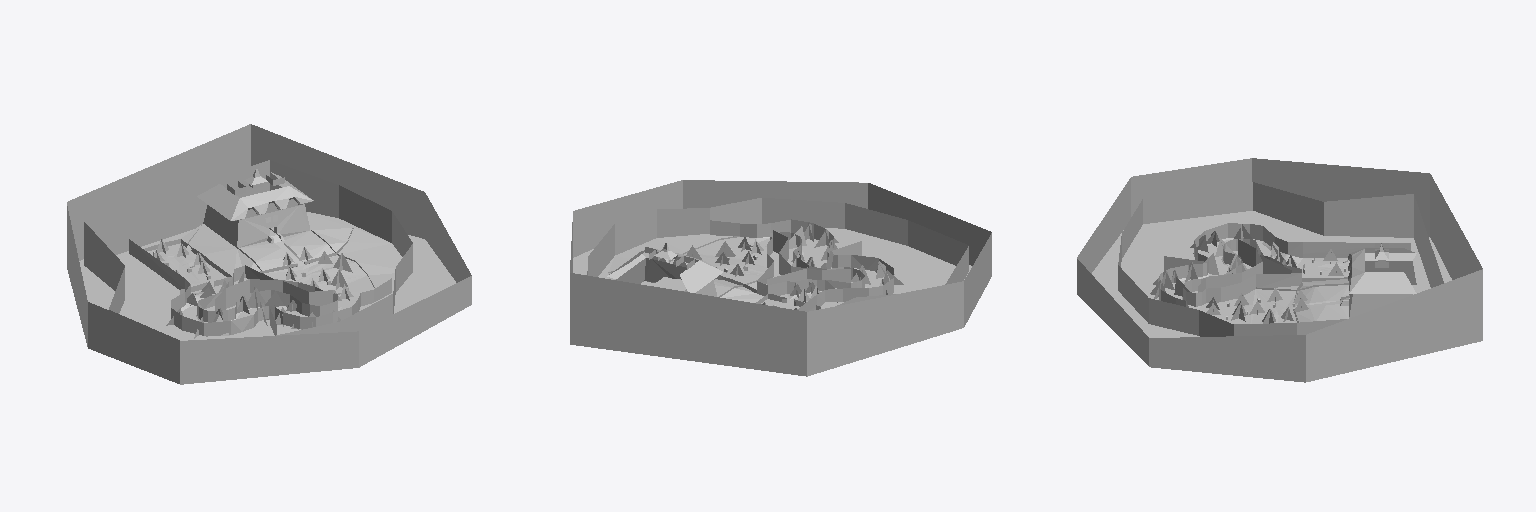
The model's file is Mansion.obj.
3 renders of one model, left to right at view 1: azimuth 30°, elevation 25°; view 2: azimuth 150°, elevation 25°; view 3: azimuth 270°, elevation 25°, orthographic.
Visible parts, largest first — view 1: mansion_cource.025, mansion_cource, mansion_cource.017, mansion_cource.024, mansion_cource.009, mansion_cource.027, mansion_cource.023; view 2: mansion_cource.025, mansion_cource, mansion_cource.024, mansion_cource.017, mansion_cource.009, mansion_cource.027; view 3: mansion_cource.025, mansion_cource, mansion_cource.024, mansion_cource.009, mansion_cource.017, mansion_cource.027.
Part boxes in pixels (bbox=[...]): mansion_cource.025: bbox=[67, 124, 471, 384]; mansion_cource: bbox=[79, 212, 455, 340]; mansion_cource.017: bbox=[203, 169, 309, 247]; mansion_cource.024: bbox=[154, 239, 353, 338]; mansion_cource.009: bbox=[197, 172, 313, 220]; mansion_cource.027: bbox=[166, 241, 351, 318]; mansion_cource.023: bbox=[140, 228, 353, 294]; mansion_cource.025: bbox=[570, 180, 991, 376]; mansion_cource: bbox=[573, 228, 971, 309]; mansion_cource.024: bbox=[686, 223, 903, 309]; mansion_cource.017: bbox=[616, 243, 716, 296]; mansion_cource.009: bbox=[609, 249, 723, 292]; mansion_cource.027: bbox=[715, 238, 883, 308]; mansion_cource.025: bbox=[1077, 158, 1482, 382]; mansion_cource: bbox=[1092, 211, 1451, 337]; mansion_cource.024: bbox=[1150, 224, 1343, 323]; mansion_cource.009: bbox=[1348, 248, 1416, 293]; mansion_cource.017: bbox=[1349, 243, 1416, 318]; mansion_cource.027: bbox=[1165, 244, 1347, 314].
Size of the model in its own units: 619 by 123 by 598.